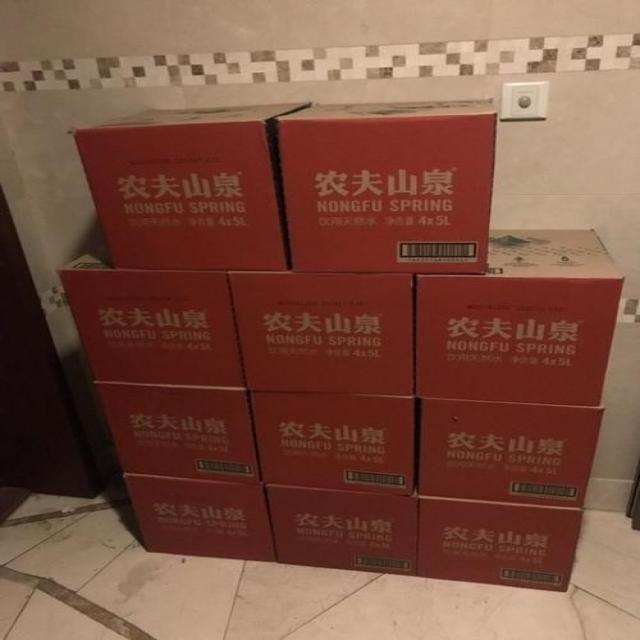box: (72, 104, 314, 272), (275, 99, 498, 274), (416, 227, 623, 406), (56, 244, 246, 390), (227, 271, 416, 397), (416, 396, 603, 509), (92, 382, 265, 486), (247, 391, 415, 493), (416, 494, 586, 594), (268, 482, 416, 577), (120, 473, 276, 562)
